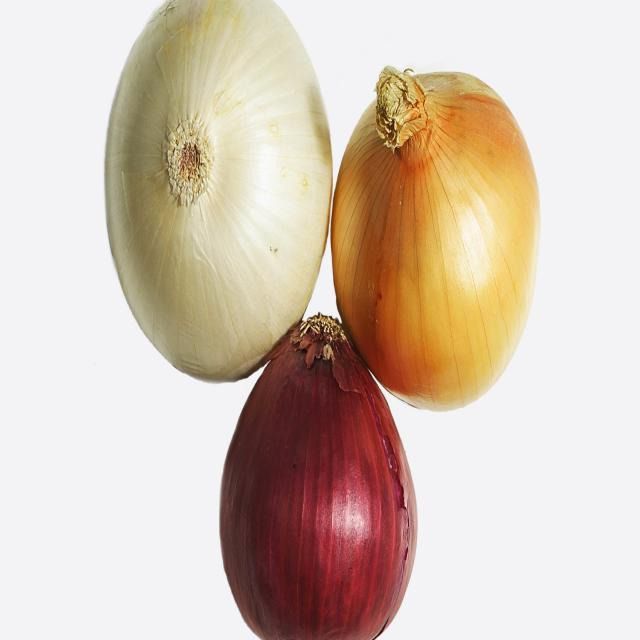Onion: (105, 0, 332, 380), (332, 67, 539, 410), (221, 316, 416, 640)
